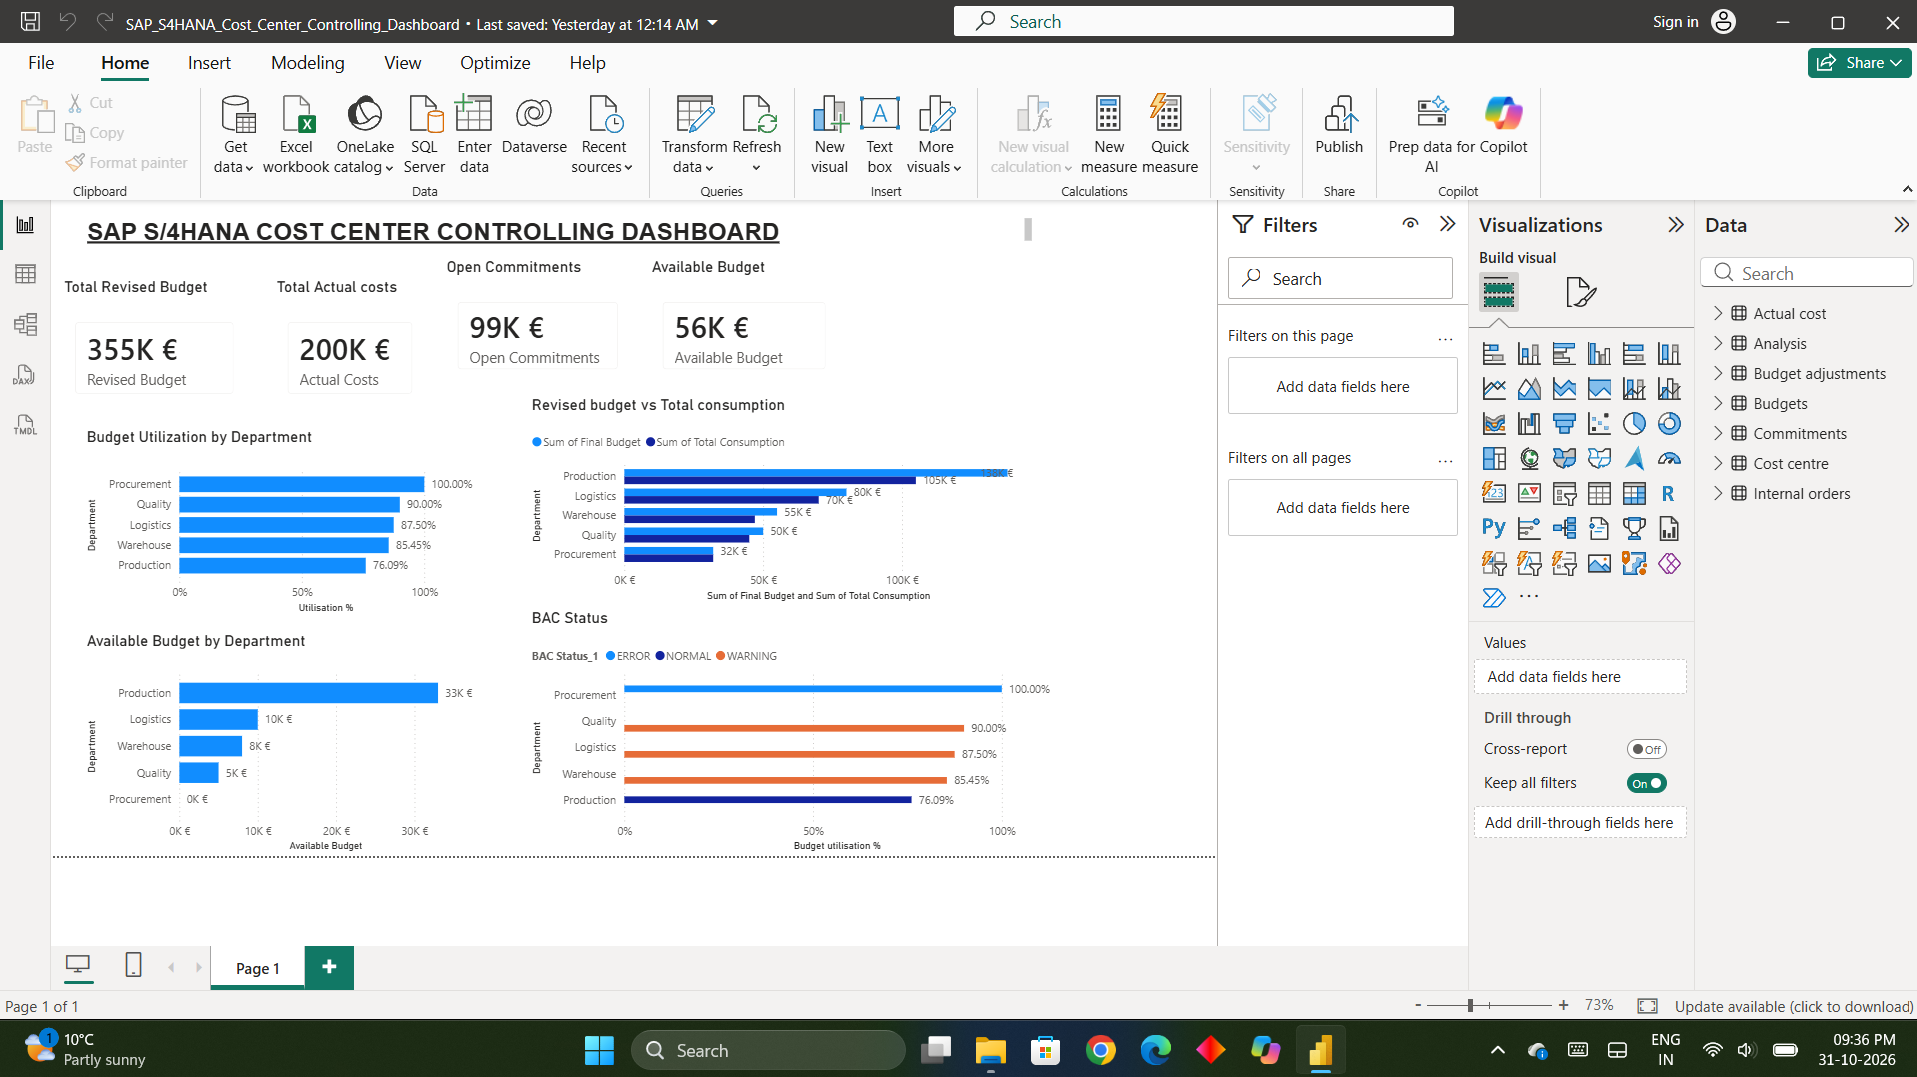

What the dashboard file says about the page in this screenshot:
{"tool":"powerbi","page":{"name":"Page 1","canvas":[1280,720],"ordinal":0},"visuals":[{"type":"cardVisual","title":"Total Revised Budget","fields":{"Data":["Sum(Analysis.Final Budget)"]},"box":[10,85,208.8,145],"z":0},{"type":"cardVisual","title":"Total Actual costs","fields":{"Data":["Sum(Analysis.Actual Costs)"]},"box":[242.5,85,171.2,145],"z":1000},{"type":"cardVisual","title":"Open Commitments","fields":{"Data":["Sum(Analysis.Commitments)"]},"box":[430,62.5,210,140],"z":2000},{"type":"cardVisual","title":"Available Budget","fields":{"Data":["Sum(Analysis.Available Budget )"]},"box":[655,62.5,213.8,140],"z":3000},{"type":"clusteredBarChart","title":"Budget Utilization by Department","fields":{"Category":["Analysis.Department"],"Y":["Sum(Analysis.Utilization )"]},"box":[34.3,249.7,448.7,208.6],"z":4000},{"type":"clusteredBarChart","title":"Revised budget vs Total consumption","fields":{"Y":["Sum(Analysis.Final Budget)","Sum(Analysis.Total Consumption)"],"Category":["Analysis.Department"]},"box":[522.5,213.8,557.5,231.2],"z":5000},{"type":"clusteredBarChart","title":"Available Budget  by Department","fields":{"Category":["Analysis.Department"],"Y":["Sum(Analysis.Available Budget )"]},"box":[34.3,473,448.7,247],"z":6000},{"type":"clusteredBarChart","title":"BAC Status","fields":{"Category":["Analysis.Department"],"Series":["Analysis.BAC Status_1"],"Y":["Sum(Analysis.Utilization )"]},"box":[522.8,448.3,594.2,271.7],"z":7000},{"type":"textbox","box":[33.8,15,1047.5,37.5],"z":7001}]}

Visuals, with their boxes on the page's 1280x720 design canvas (x1, y1, x2, y2). These are canvas units, not pixel positions in the 1917x1077 screenshot, which may show the page scaled, cropped or inside an application window:
"Total Revised Budget" cardVisual: 10:85:219:230
"Total Actual costs" cardVisual: 242:85:414:230
"Open Commitments" cardVisual: 430:62:640:202
"Available Budget" cardVisual: 655:62:869:202
"Budget Utilization by Department" clusteredBarChart: 34:250:483:458
"Revised budget vs Total consumption" clusteredBarChart: 522:214:1080:445
"Available Budget  by Department" clusteredBarChart: 34:473:483:720
"BAC Status" clusteredBarChart: 523:448:1117:720
textbox: 34:15:1081:52
